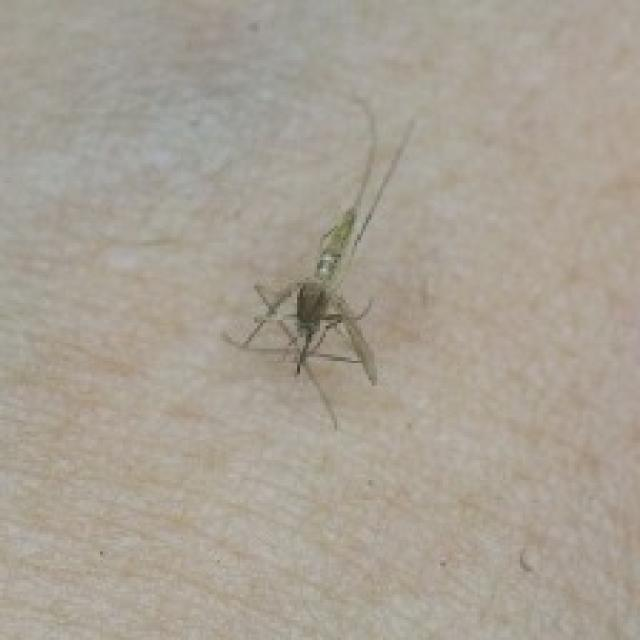culex: (220, 94, 417, 429)
